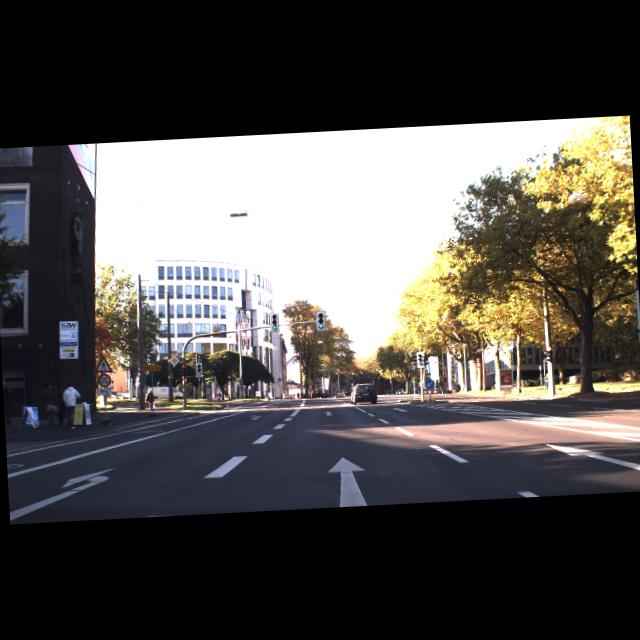danger: (93, 355, 113, 374)
mandatory: (426, 380, 435, 389)
other: (168, 354, 182, 367)
prohibitory: (98, 373, 112, 388)
